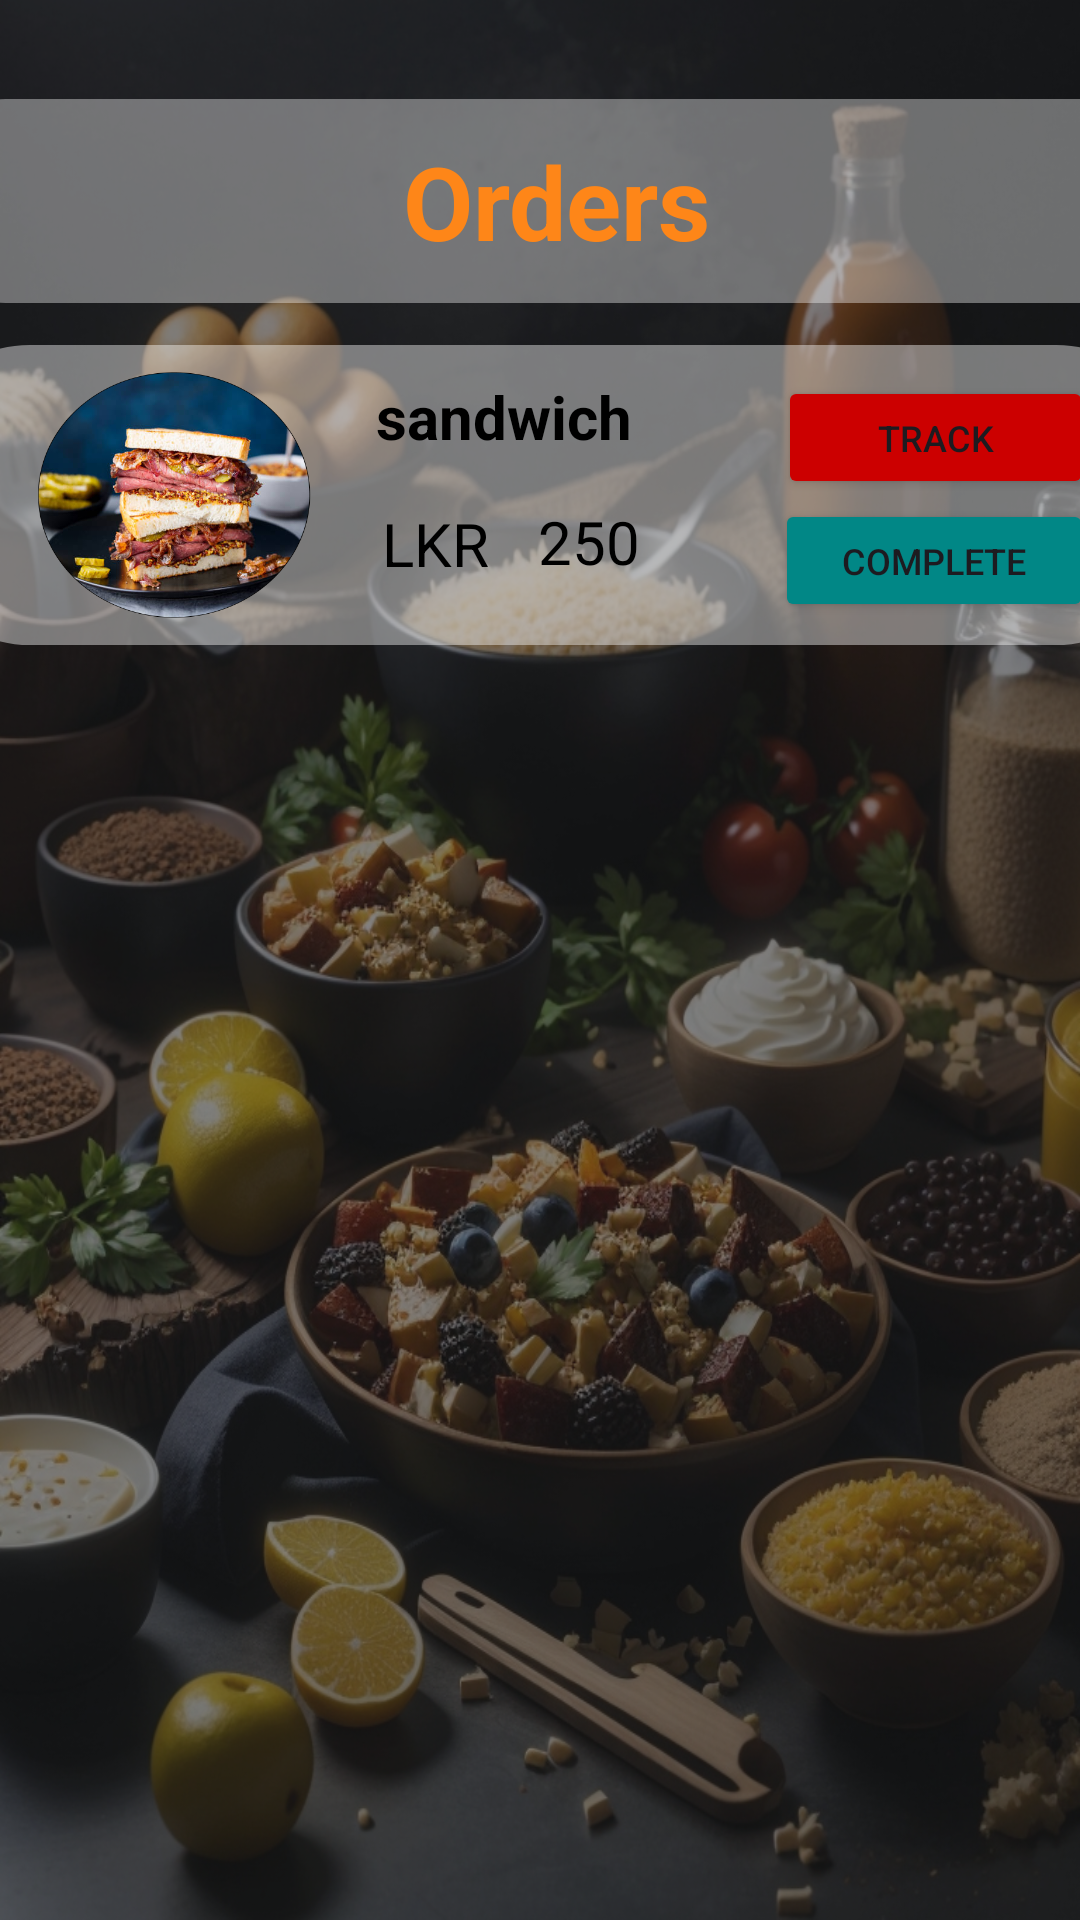

Icons on this 1080w x 1920h Android screen, each with its box as (x1, y1, x2, y2):
food: (4, 372, 343, 618)
